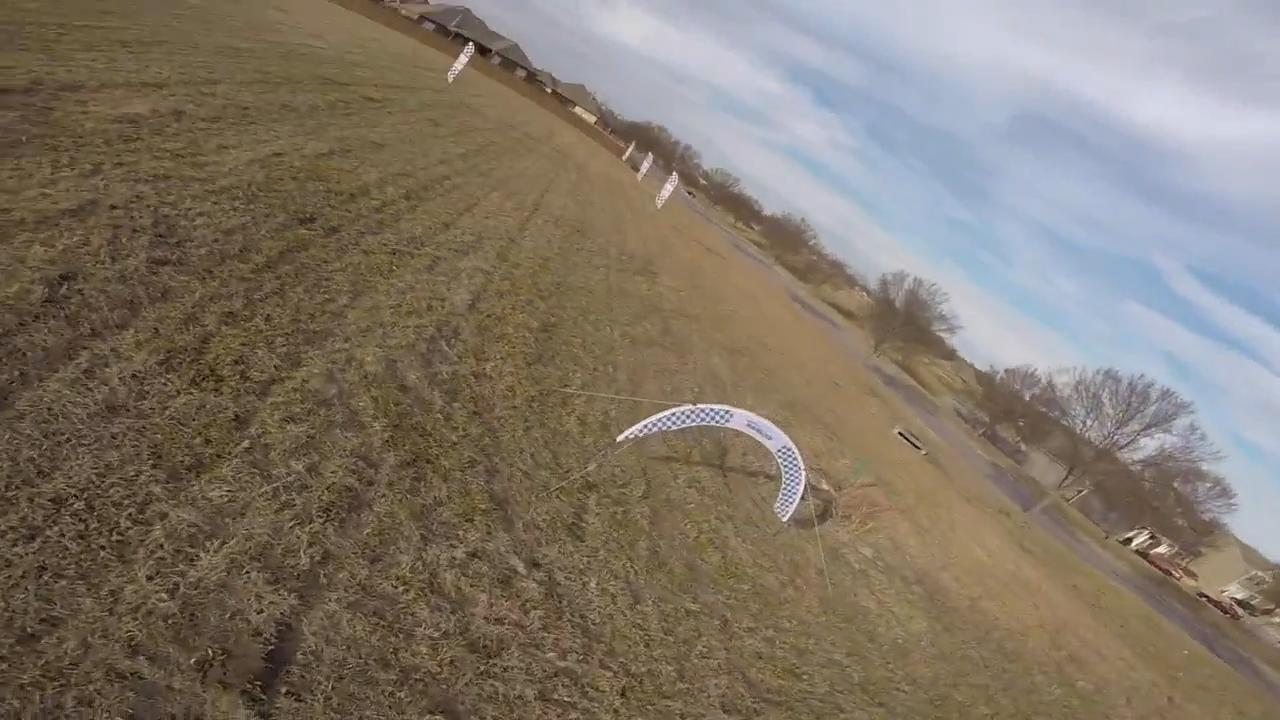gate: (609, 400, 810, 521)
